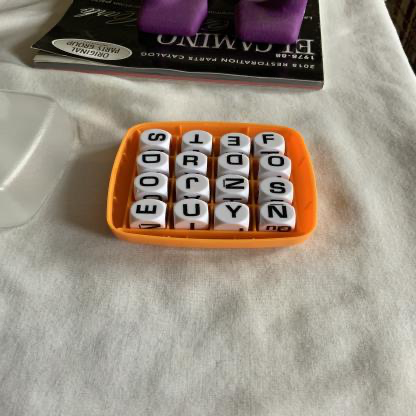d: (138, 152, 169, 169), (220, 153, 249, 171)
e: (132, 200, 166, 222), (222, 134, 251, 150)
f: (255, 133, 285, 149)
j: (177, 175, 210, 194)
n: (262, 202, 296, 225), (217, 175, 250, 194)
o: (135, 173, 167, 192), (261, 155, 292, 173)
r: (177, 152, 208, 170)
s: (261, 179, 294, 198), (141, 130, 171, 146)
t: (184, 131, 213, 146)
u: (175, 200, 209, 221)
y: (216, 203, 250, 224)
